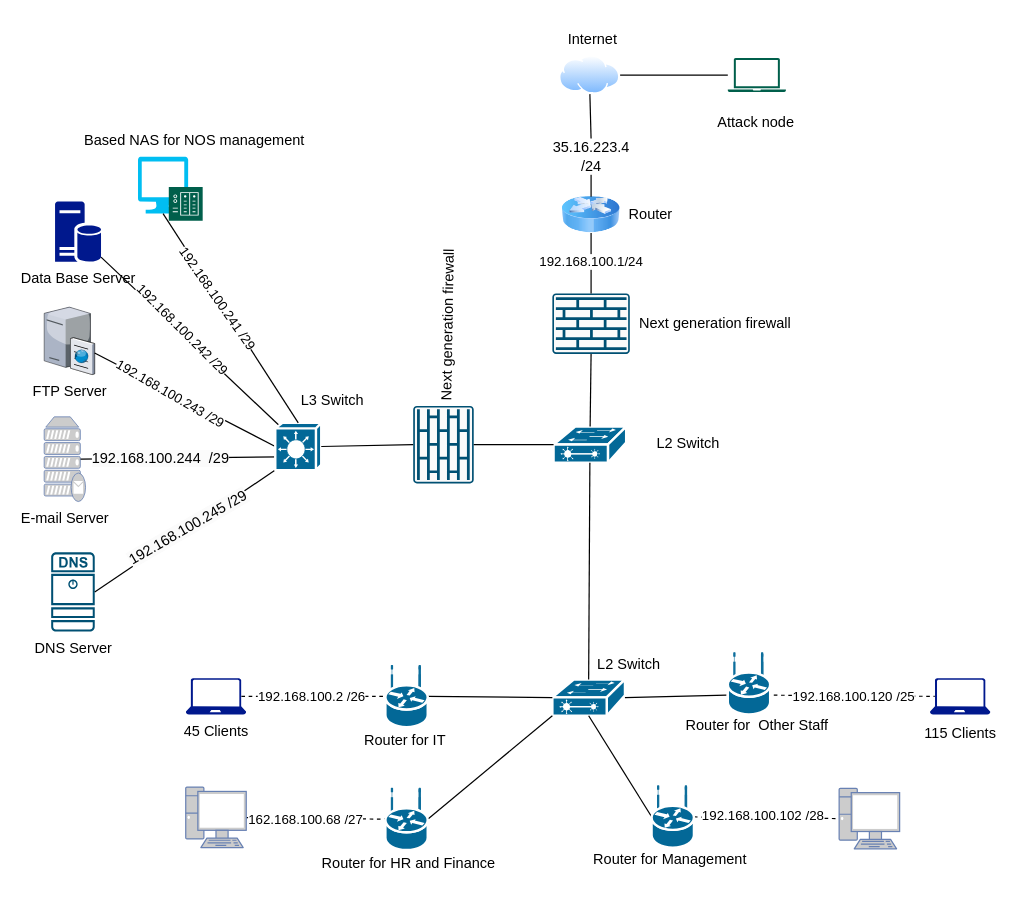
This 1030x901 diagram has some shape labels left out. Each missing label, with the box of its shape:
10 clients: (837, 786, 900, 849)
30 Clients: (184, 785, 247, 848)
